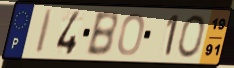1: (164, 13, 180, 59)
4: (54, 9, 82, 57)
B: (84, 10, 119, 58)
I: (34, 8, 56, 56)
O: (117, 11, 147, 57), (176, 14, 206, 60)
